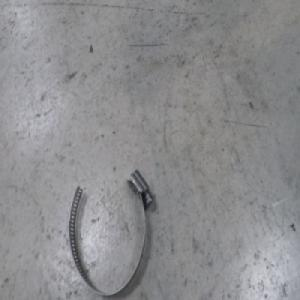AdjustableClamp: (67, 169, 152, 295)
